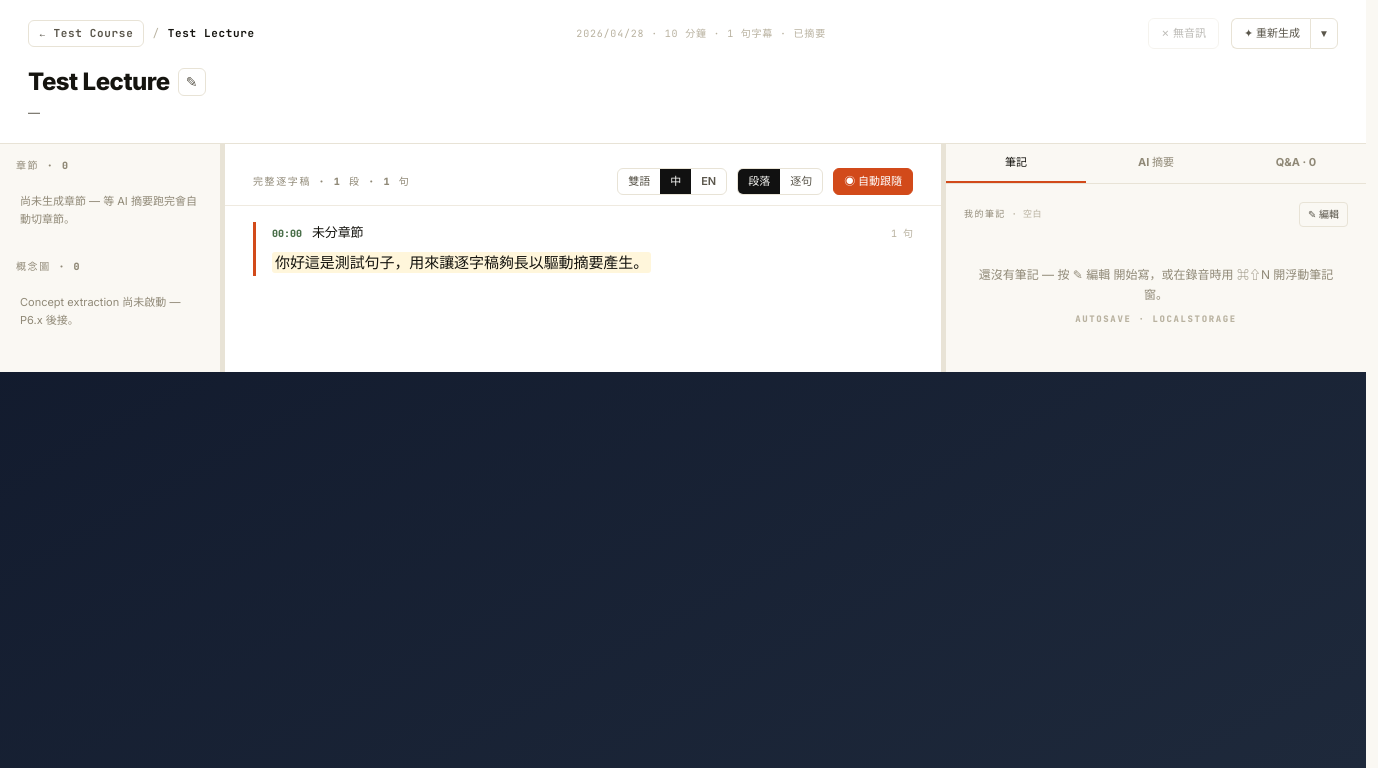
it: H18ReviewPage · cp75.31 granular regenerate › clicking the chevron opens a dropdown with 摘要 / 章節 / Q&A / 全部
The image size is (1378, 768).
Click the button "▼".
click(1324, 34)  # box x1=1310 y1=18 x2=1338 y2=49
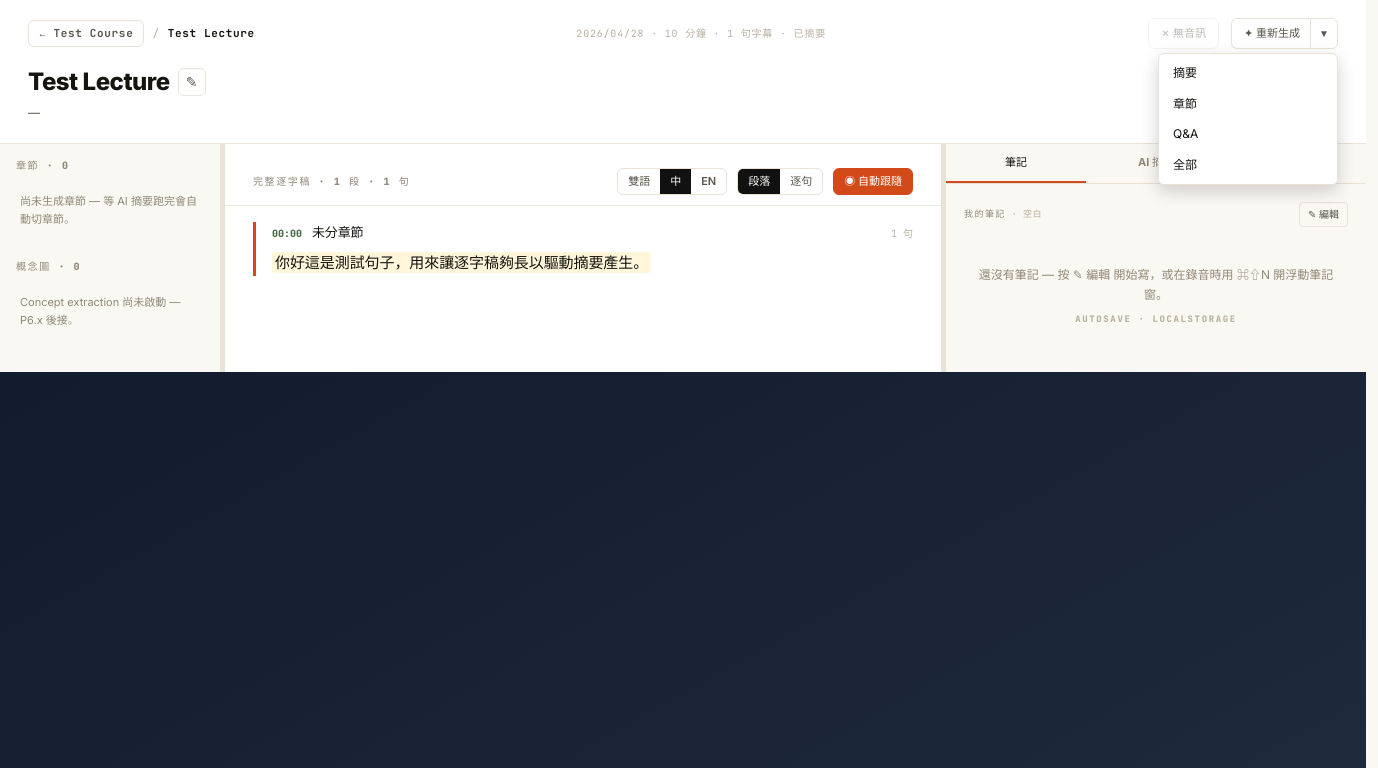
Expected: the menu is shown, x1=1158 y1=53 x2=1338 y2=185
Expected: the menu item "摘要" is shown, x1=1163 y1=58 x2=1333 y2=89
Expected: the menu item "章節" is shown, x1=1163 y1=89 x2=1333 y2=119
